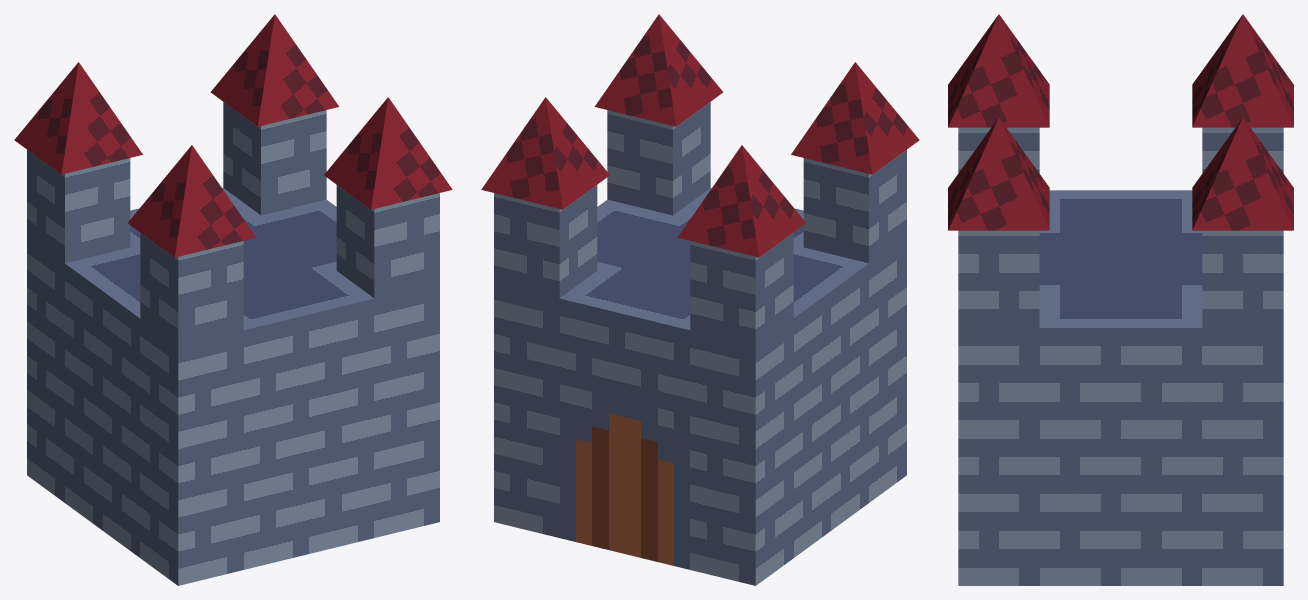
The model's file is nexus.gltf.
3 views of the same model, side by side, from view 1: azimuth 30°, elevation 25°; view 2: azimuth 150°, elevation 25°; view 3: azimuth 270°, elevation 25° (orthographic). The views are drawn at different scales.
Visible parts, largest first — view 1: cuboid (×5), pyramid (×4); view 2: cuboid (×5), pyramid (×4); view 3: cuboid (×5), pyramid (×4).
Boxes of the visible parts, x1,y1,x2,y2 form: cuboid (×5): [27, 102, 439, 585]; pyramid (×4): [14, 14, 452, 257]; cuboid (×5): [494, 102, 906, 585]; pyramid (×4): [481, 14, 919, 257]; cuboid (×5): [958, 127, 1283, 585]; pyramid (×4): [948, 14, 1293, 230].
Size of the model in its own units: 1.06 by 1.53 by 1.06.
1 material, 1 textured.
